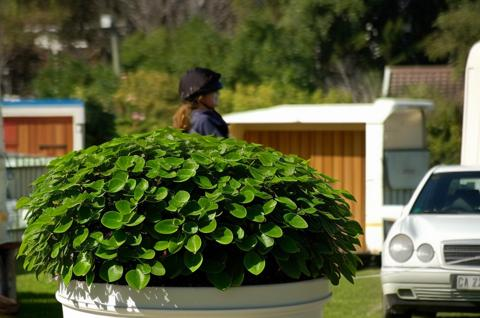car: (1, 151, 169, 268), (381, 164, 480, 318)
person: (173, 66, 288, 274)
person/foot: (257, 245, 285, 271)
person/hand: (260, 142, 274, 152), (244, 154, 253, 167)
person/head: (180, 68, 219, 111)
pottedplant: (15, 122, 365, 318)
